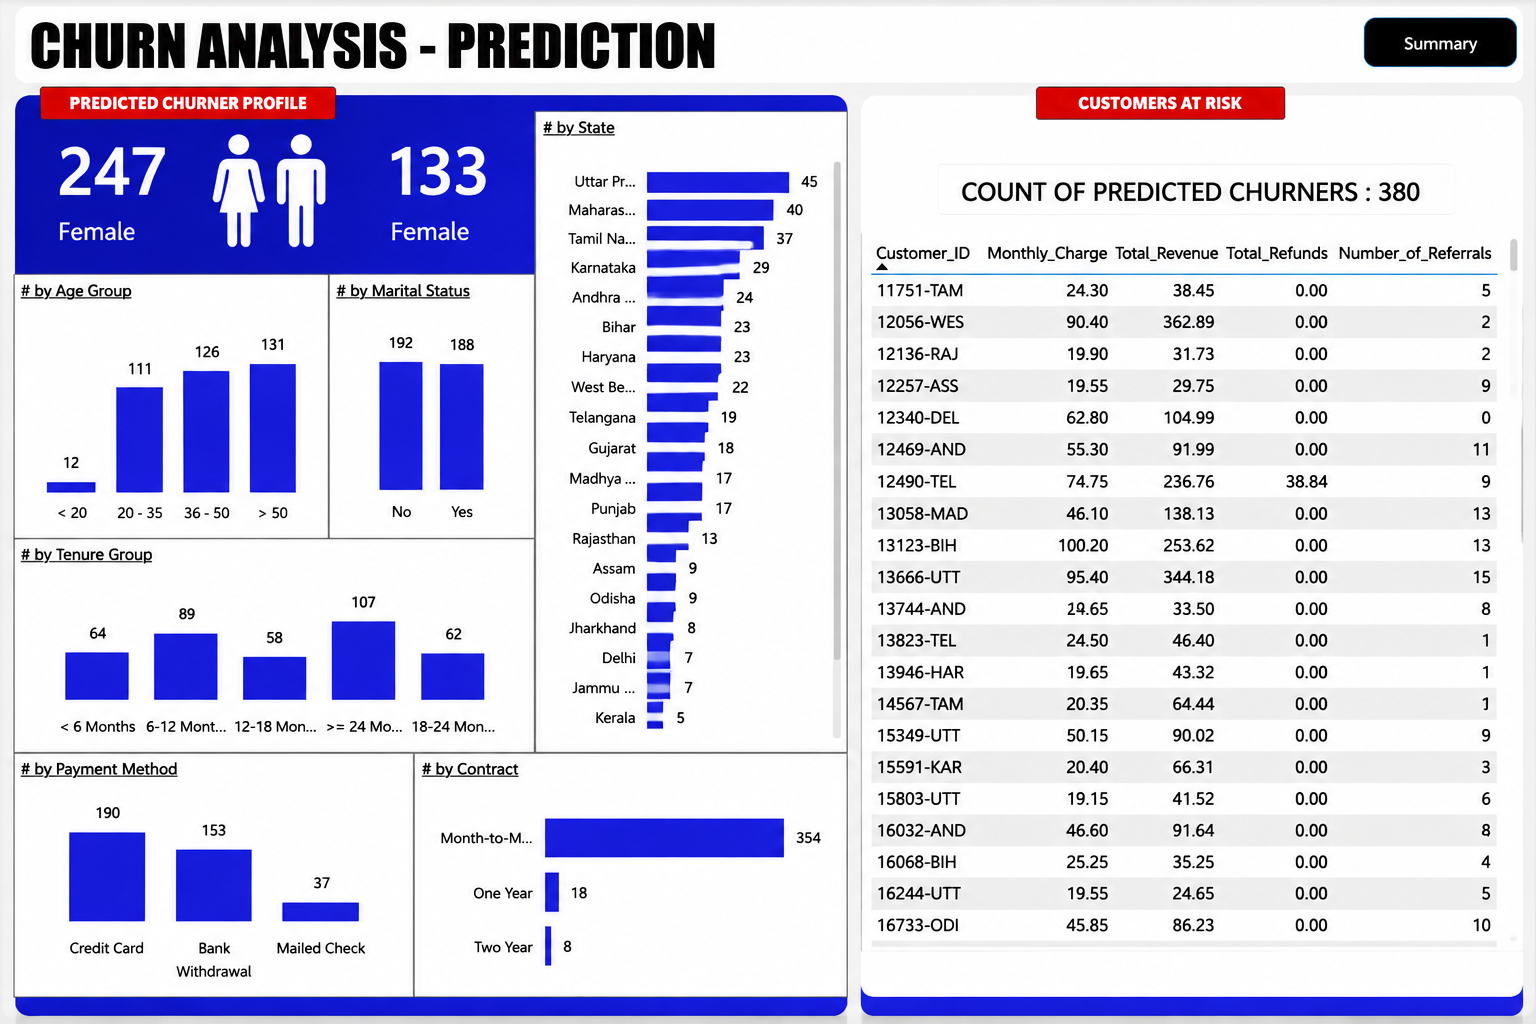

Layout of this report page (visuals, bound fields, positions):
{"tool":"powerbi","page":{"name":"Churn_Prediction","canvas":[1280,720],"ordinal":2},"visuals":[{"type":"tableEx","fields":{"Values":["Predictions.Customer_ID","Predictions.Monthly_Charge","Predictions.Total_Revenue","Predictions.Total_Refunds","Predictions.Number_of_Referrals"]},"box":[733.6,169.2,546.5,489.6],"z":0},{"type":"cardVisual","fields":{"Data":["tbl_Measures.Title Predicted Churner"]},"box":[790.5,110.6,455.4,71.6],"z":1000},{"type":"cardVisual","fields":{"Data":["tbl_Measures.Count Predicted Churner"]},"box":[14.6,66.7,143.1,151.3],"z":2000},{"type":"cardVisual","fields":{"Data":["tbl_Measures.Count Predicted Churner"]},"box":[274.9,73.2,133.4,135],"z":3000},{"type":"clusteredColumnChart","fields":{"Category":["mapping_AgeGrp.Age Group"],"Y":["CountNonNull(Predictions.Customer_ID)"]},"box":[0,208.2,263.5,177.3],"z":4000},{"type":"clusteredColumnChart","fields":{"Y":["CountNonNull(Predictions.Customer_ID)"],"Category":["Predictions.Married"]},"box":[263.5,206.6,174,177.3],"z":5000},{"type":"clusteredColumnChart","fields":{"Y":["CountNonNull(Predictions.Customer_ID)"],"Category":["mapping_TenureGrp.Tenure Group"]},"box":[0,382.2,437.5,143.1],"z":6000},{"type":"clusteredColumnChart","fields":{"Y":["CountNonNull(Predictions.Customer_ID)"],"Category":["Predictions.Payment_Method"]},"box":[0,525.4,341.6,167.5],"z":6001},{"type":"clusteredBarChart","fields":{"Category":["Predictions.Contract"],"Y":["CountNonNull(Predictions.Customer_ID)"]},"box":[341.6,525.4,370.9,167.5],"z":6002},{"type":"clusteredBarChart","fields":{"Y":["CountNonNull(Predictions.Customer_ID)"],"Category":["Predictions.State"]},"box":[437.5,92.7,274.9,432.7],"z":6003},{"type":"image","box":[143.1,89.5,120.4,107.4],"z":6004},{"type":"shape","box":[1145.1,16.3,117.1,37.4],"z":6005}]}

Visuals, with their boxes on the page's 1280x720 design canvas (x1, y1, x2, y2). These are canvas units, not pixel positions in the 1536x1024 screenshot, which may show the page scaled, cropped or inside an application window:
tableEx - Predictions.Customer_ID x Predictions.Monthly_Charge: region(734, 169, 1280, 659)
cardVisual - tbl_Measures.Title Predicted Churner: region(790, 111, 1246, 182)
cardVisual - tbl_Measures.Count Predicted Churner: region(15, 67, 158, 218)
cardVisual - tbl_Measures.Count Predicted Churner: region(275, 73, 408, 208)
clusteredColumnChart - mapping_AgeGrp.Age Group x CountNonNull(Predictions.Customer_ID): region(0, 208, 264, 386)
clusteredColumnChart - CountNonNull(Predictions.Customer_ID) x Predictions.Married: region(264, 207, 438, 384)
clusteredColumnChart - CountNonNull(Predictions.Customer_ID) x mapping_TenureGrp.Tenure Group: region(0, 382, 438, 525)
clusteredColumnChart - CountNonNull(Predictions.Customer_ID) x Predictions.Payment_Method: region(0, 525, 342, 693)
clusteredBarChart - Predictions.Contract x CountNonNull(Predictions.Customer_ID): region(342, 525, 712, 693)
clusteredBarChart - CountNonNull(Predictions.Customer_ID) x Predictions.State: region(438, 93, 712, 525)
image: region(143, 90, 264, 197)
shape: region(1145, 16, 1262, 54)
